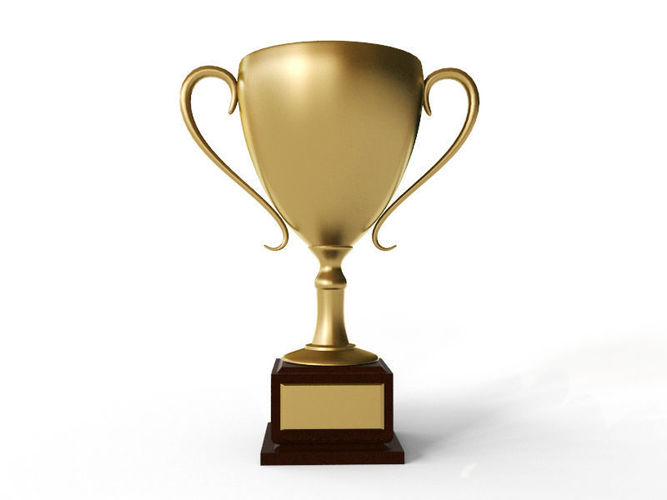trophy: (179, 39, 484, 475)
